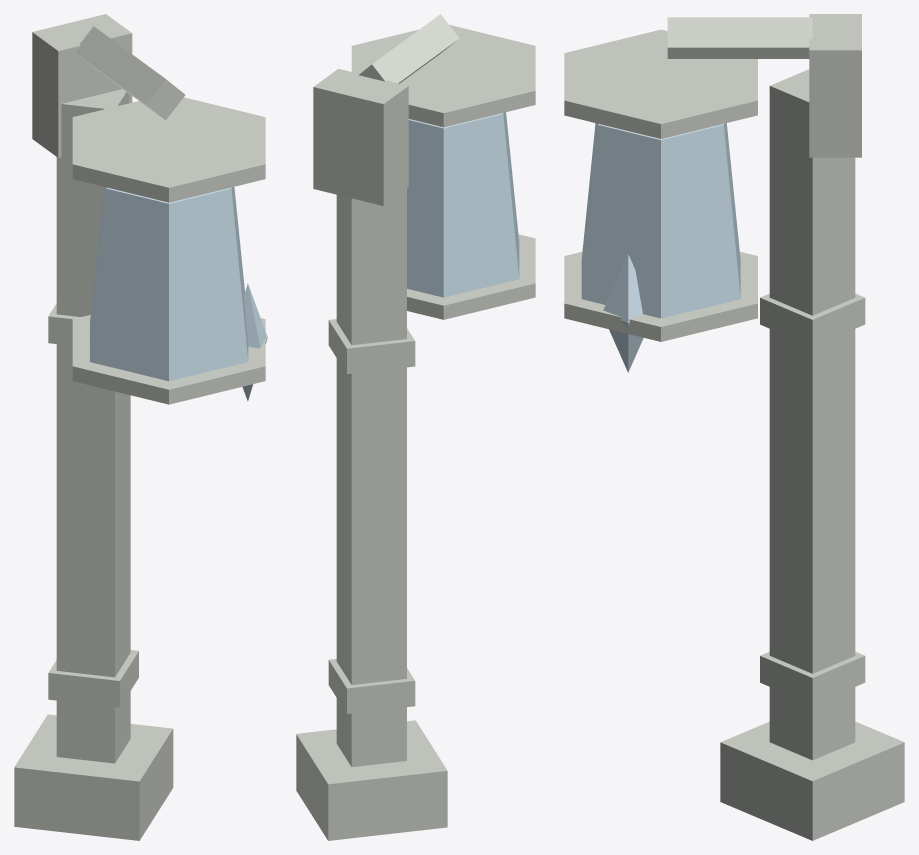
File: Tundra_LampPost.fbx
3 renders of one model, left to right at view 1: azimuth 30°, elevation 25°; view 2: azimuth 150°, elevation 25°; view 3: azimuth 270°, elevation 25°, orthographic. The views are drawn at different scales.
Parts seen in each view (by area): view 1: Tundra_LampPost; view 2: Tundra_LampPost; view 3: Tundra_LampPost.
Boxes of the visible parts, x1,y1,x2,y2 form: Tundra_LampPost: (14, 14, 267, 840); Tundra_LampPost: (296, 14, 535, 840); Tundra_LampPost: (564, 14, 904, 840).
Bounding box in the file's own units: 34 × 131 × 51.72.
